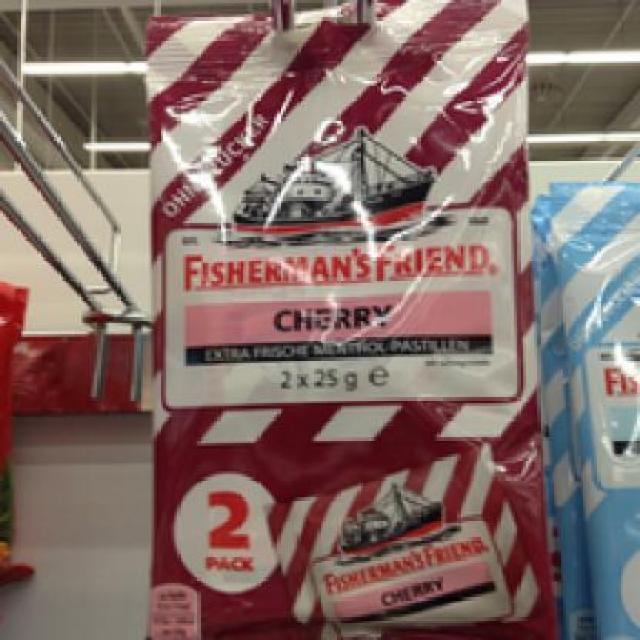Candy: (143, 6, 532, 628), (532, 171, 638, 624)
